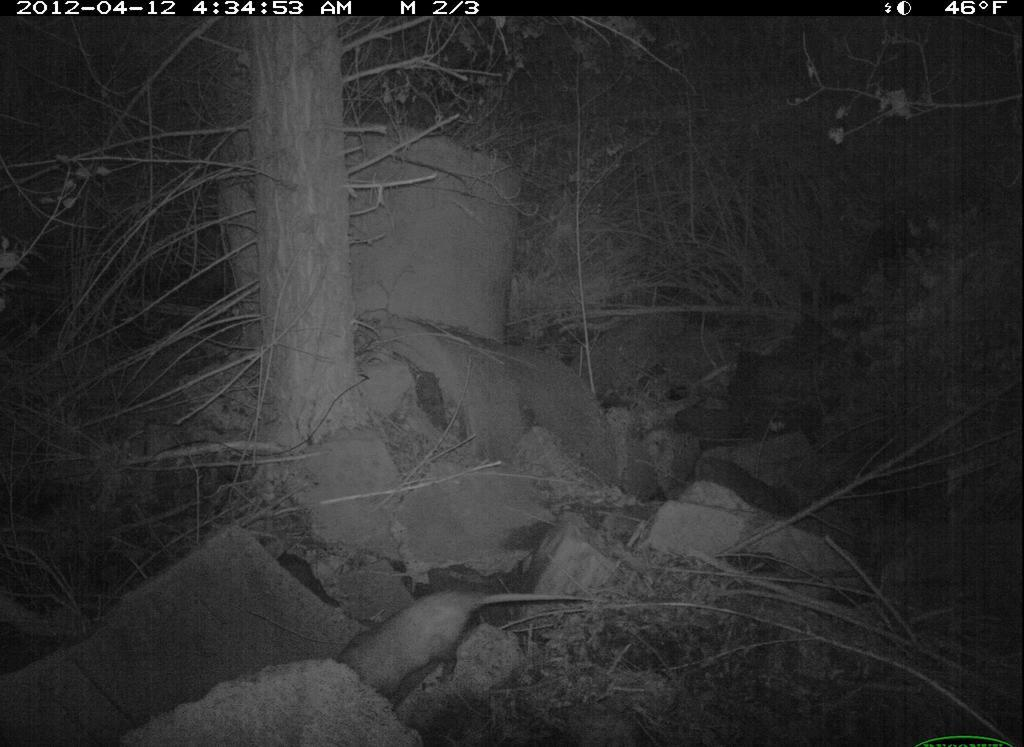opossum: (324, 575, 603, 707)
